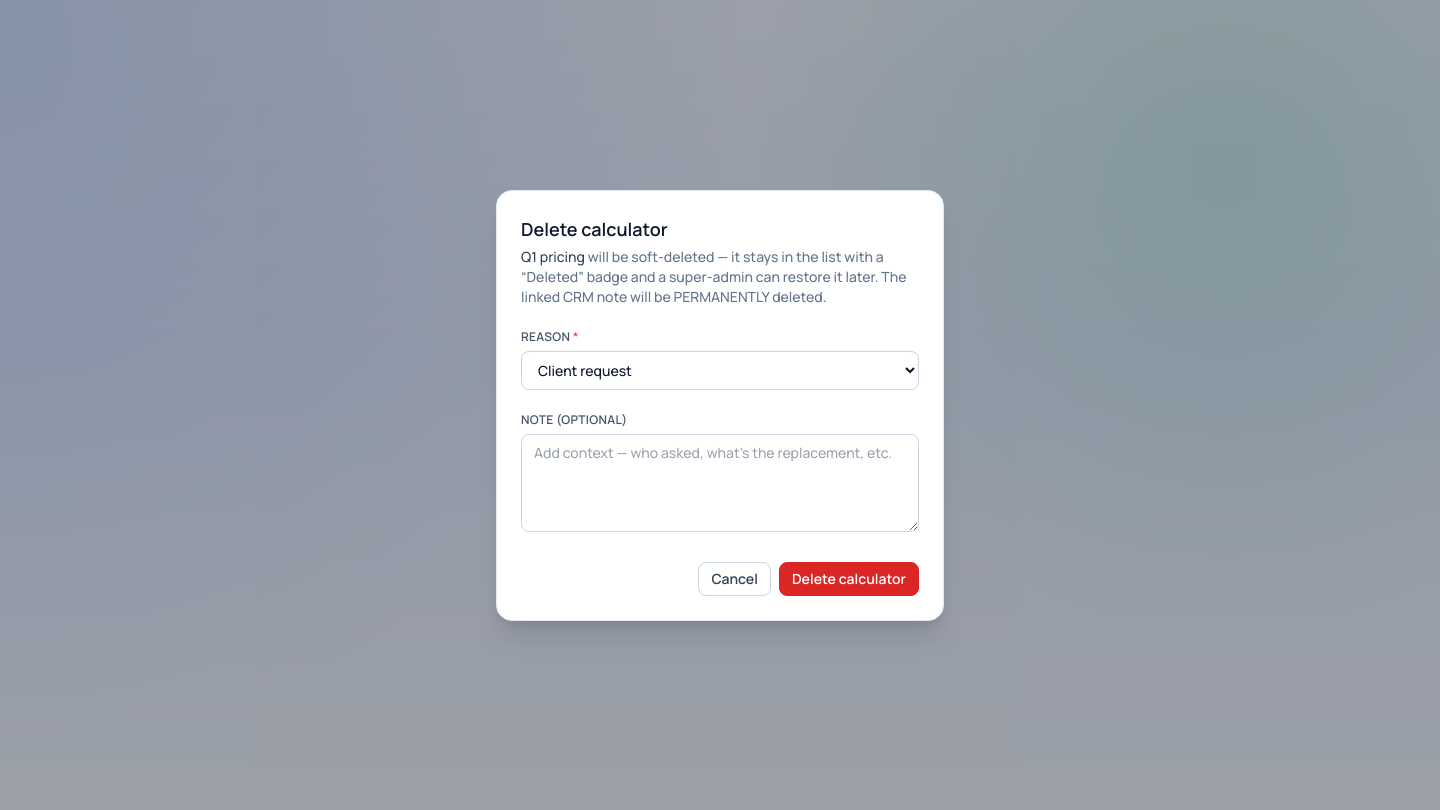
it: DeleteCalculatorModal — server errors › surfaces CALC_ALREADY_DELETED inline
The width and height of the screenshot is (1440, 810).
Click the button "Delete calculator". click: coordinates (849, 578)
box: [779,562,919,596]
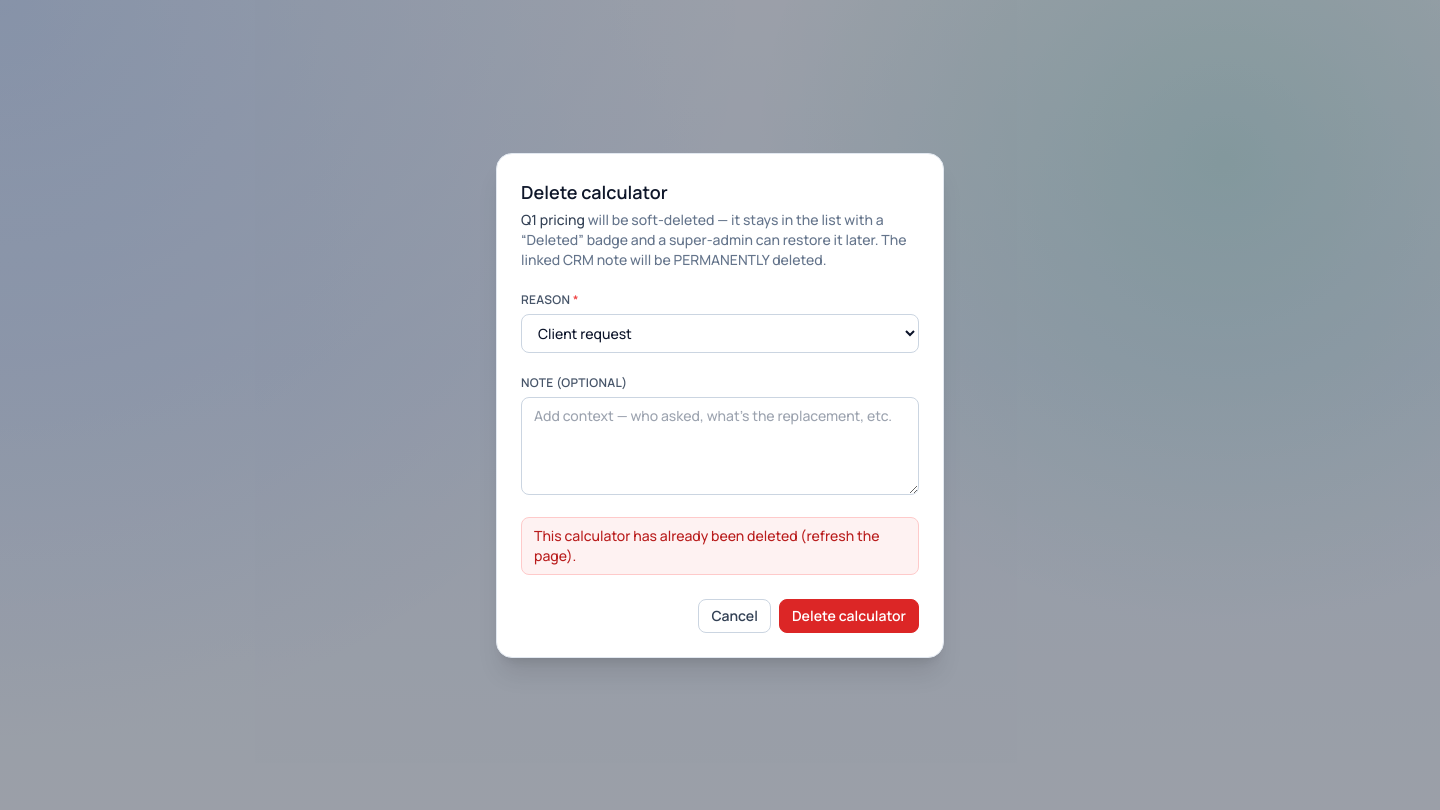
Check: the text "This calculator has already been deleted (refresh the page)." is shown, box [521,516,919,574]
